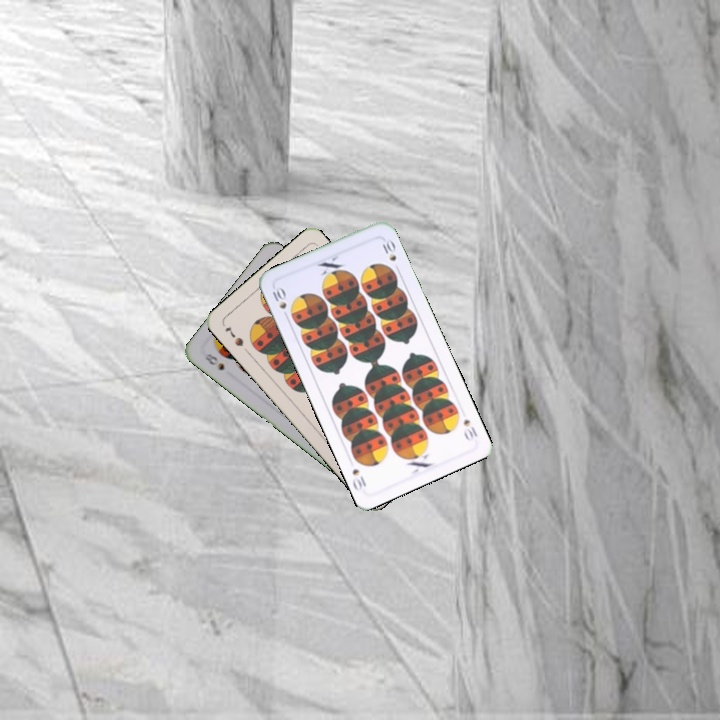S10: (268, 283, 291, 322), (459, 415, 480, 444)
S7: (221, 323, 246, 349)
S8: (198, 350, 227, 373)
